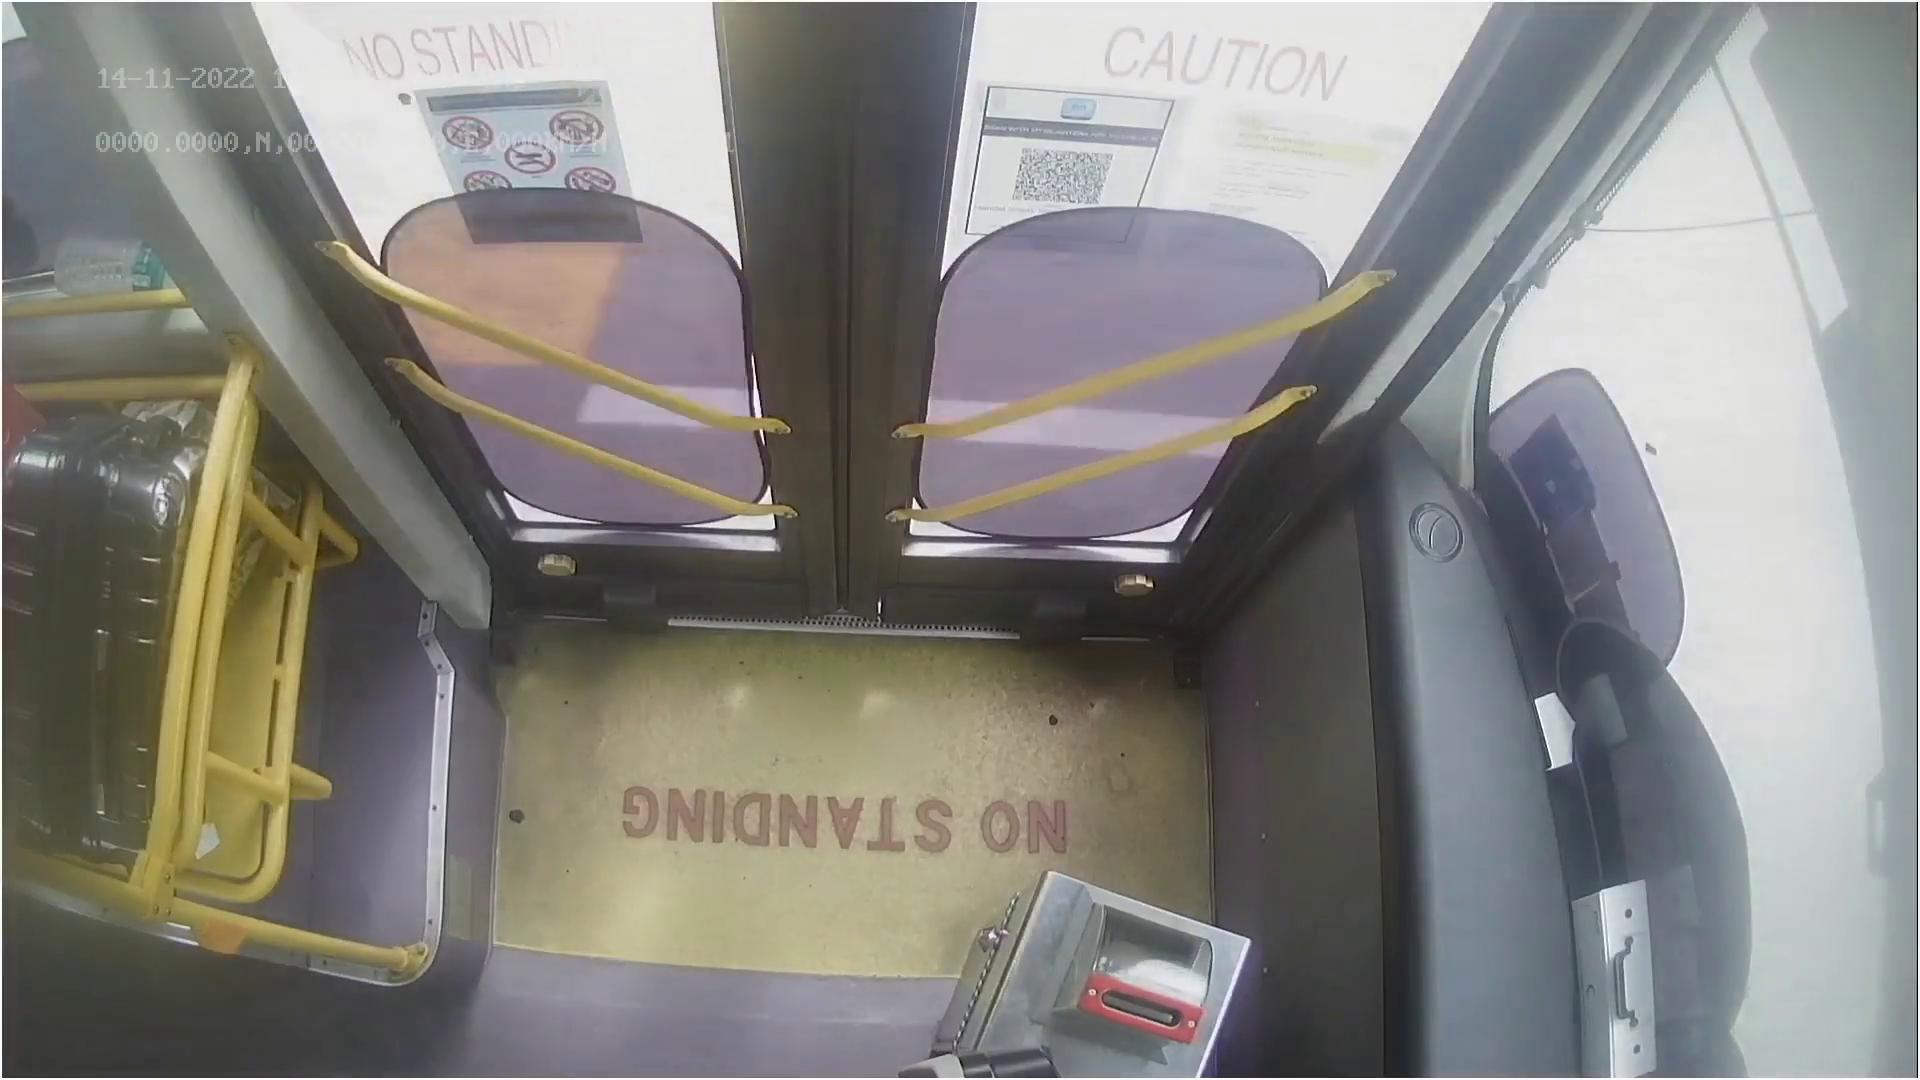close: (289, 0, 1433, 166)
